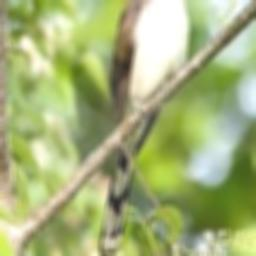Cuckoo: (100, 0, 204, 255)
